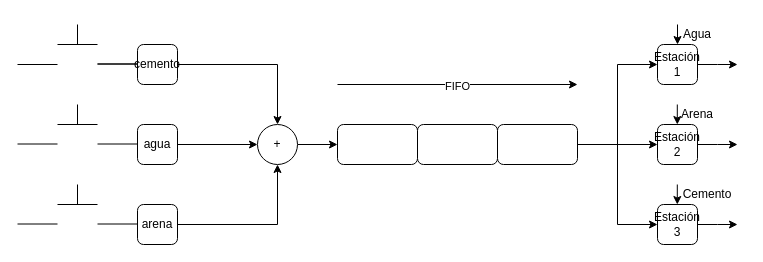
This 763x262 diagram has some shape labels left out. The shapes that lost their labels are listed below. From the top down, each one's centre as x and y in pixels, then its label:
[377,144]: pack3
[457,144]: pack2
[537,144]: pack1
